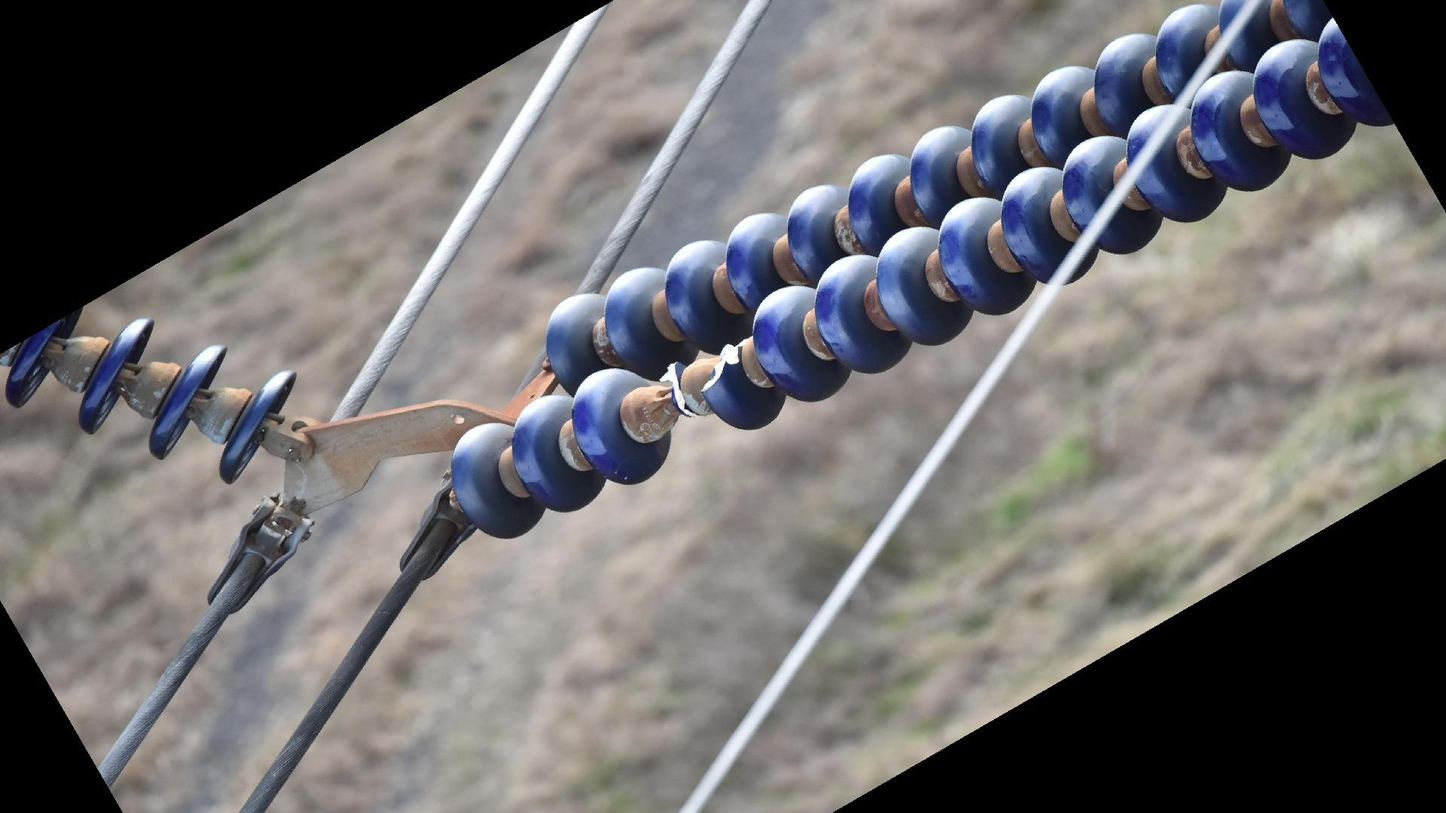insulator: (444, 1, 1395, 544), (540, 1, 1326, 400), (1, 300, 304, 489)
insulator_breakage: (659, 357, 701, 422), (699, 340, 743, 399)
